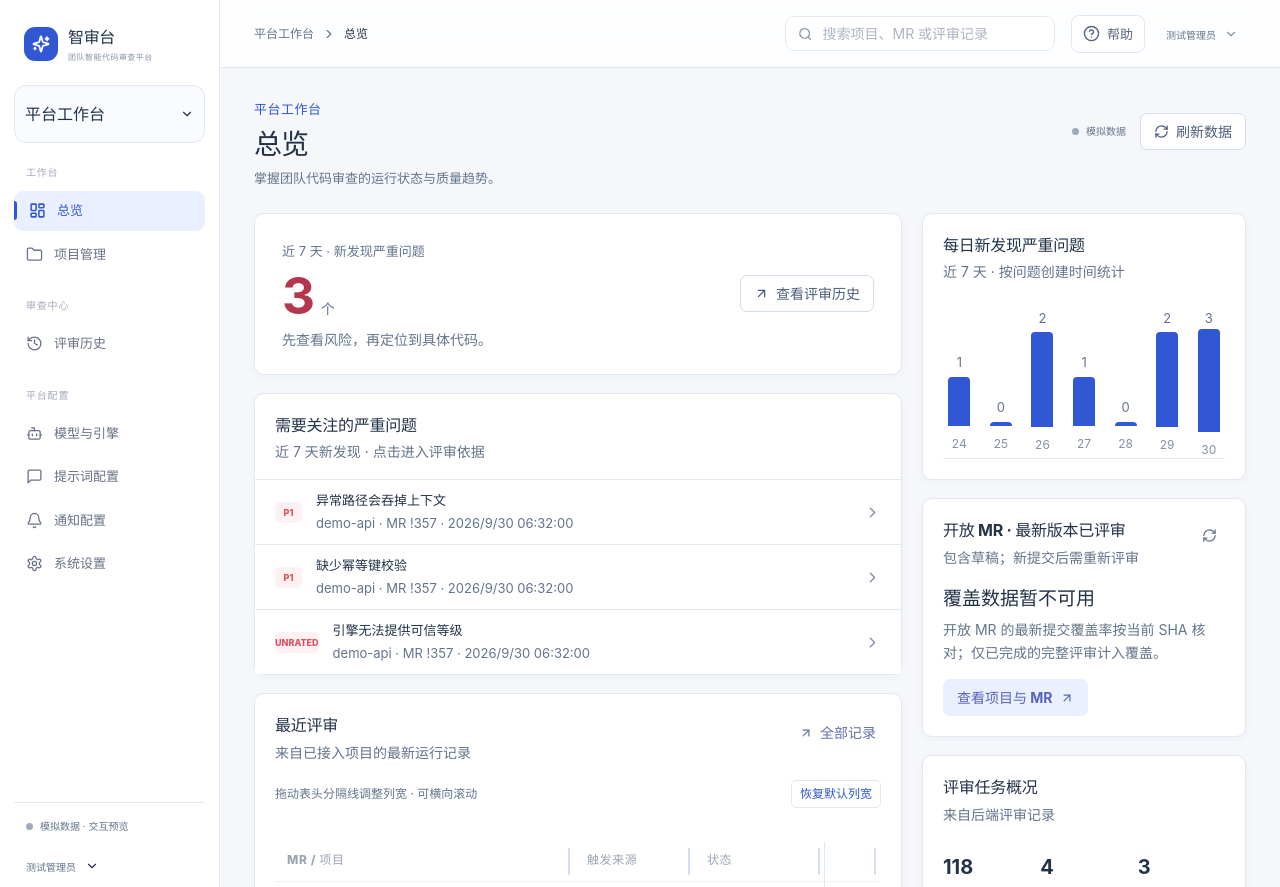
Test: dismisses help when focus moves to another topbar control
Click the button labelled "帮助": point(1108, 34) [1071,14,1145,52]
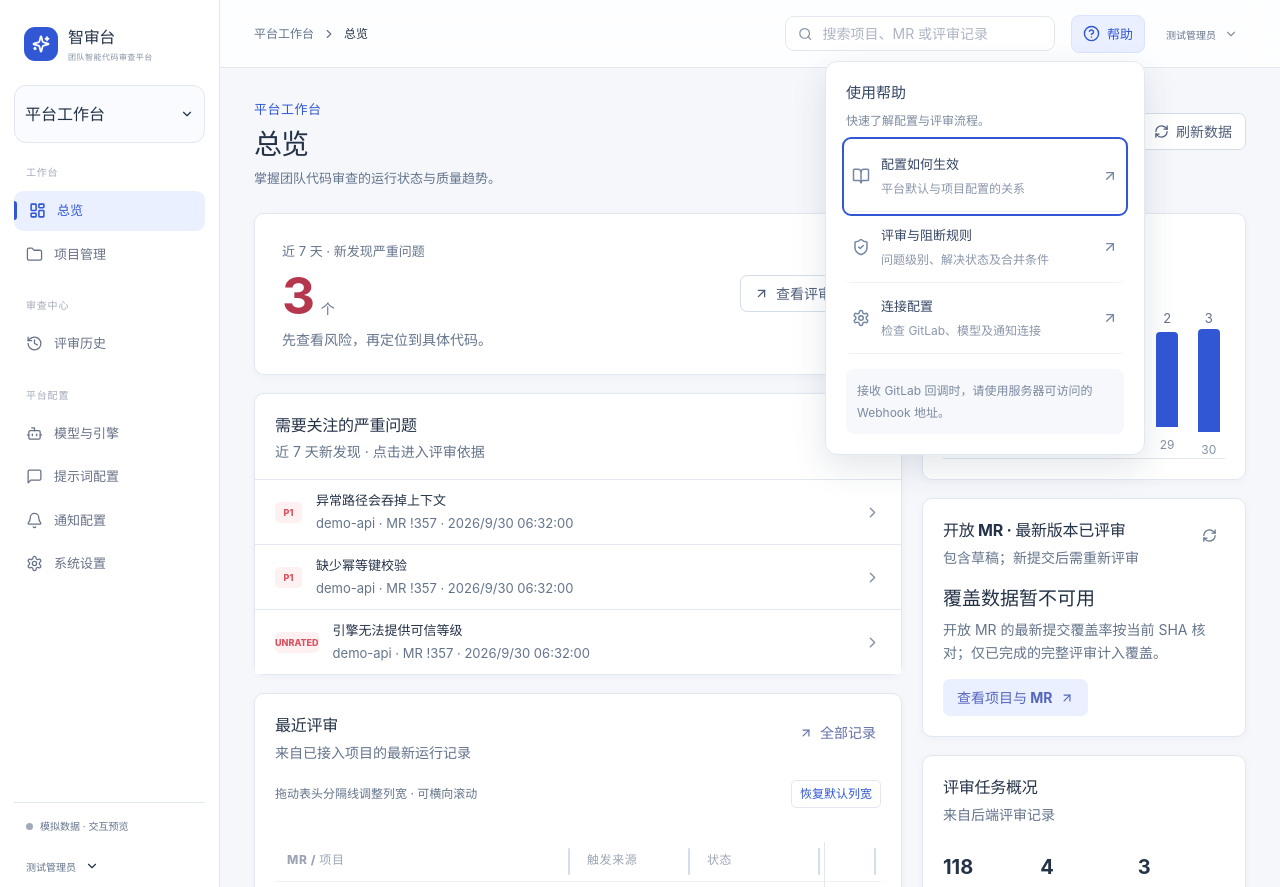
Expected: the heading "使用帮助" is shown, [846,83,906,102]
Click the field named "全局搜索": point(931, 34) [820,22,1042,45]
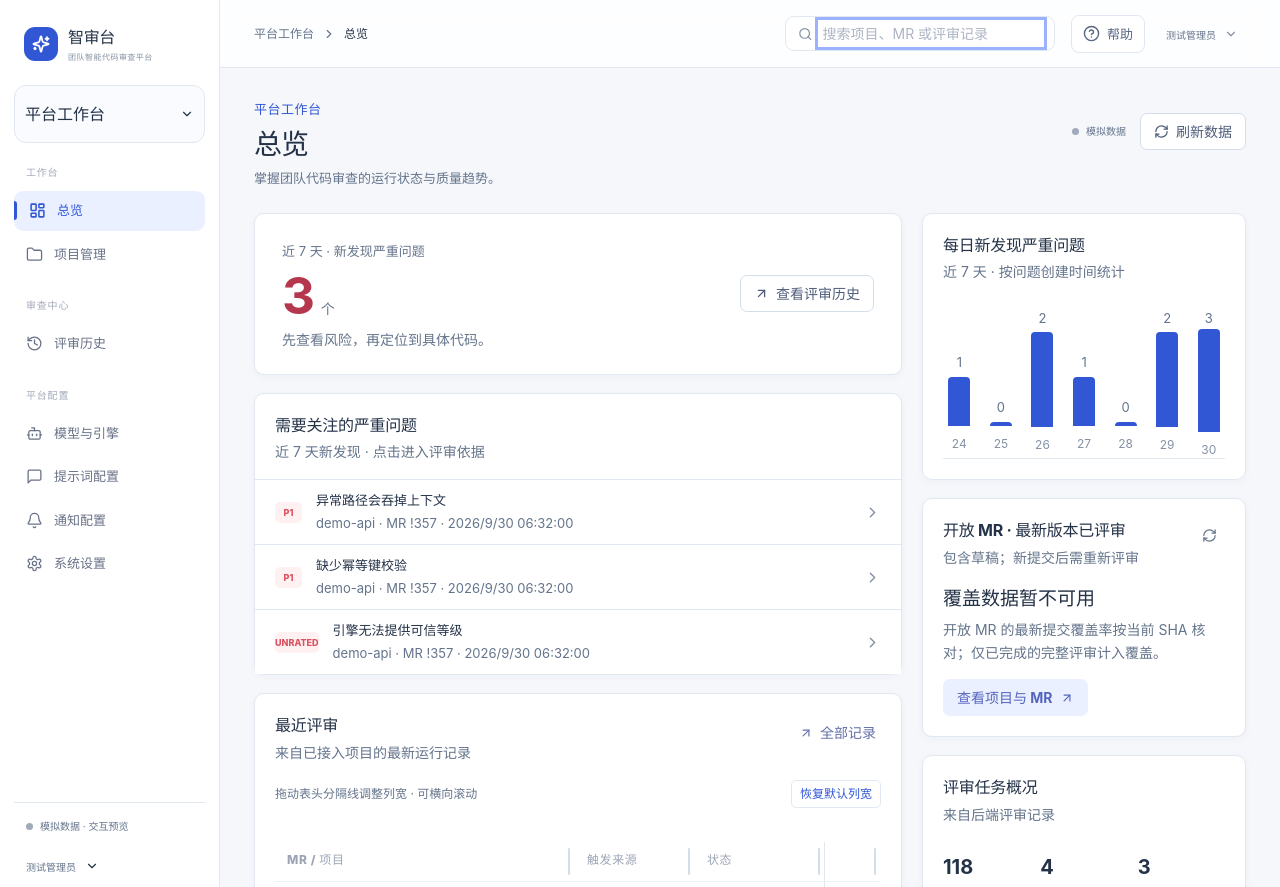
Expected: the heading "使用帮助" is gone
